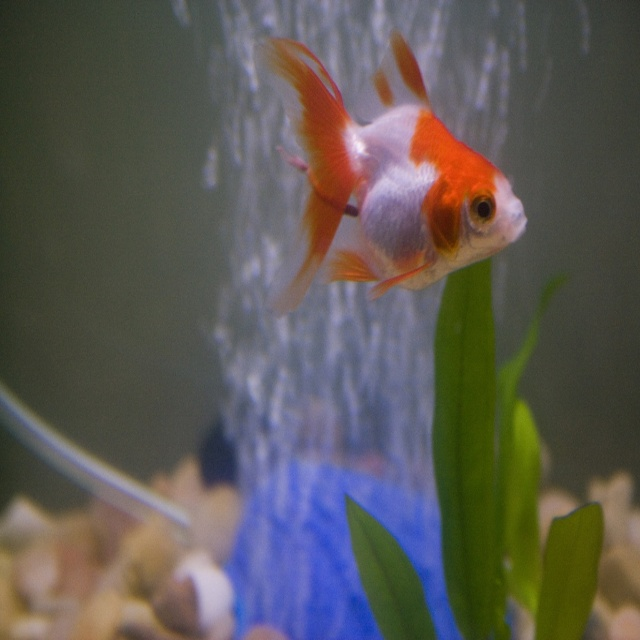Goldfish: (245, 23, 535, 330)
